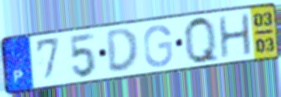5: (67, 31, 100, 80)
7: (35, 35, 63, 84)
D: (104, 26, 141, 74)
G: (142, 23, 175, 69)
H: (217, 11, 255, 61)
Q: (182, 14, 221, 66)
